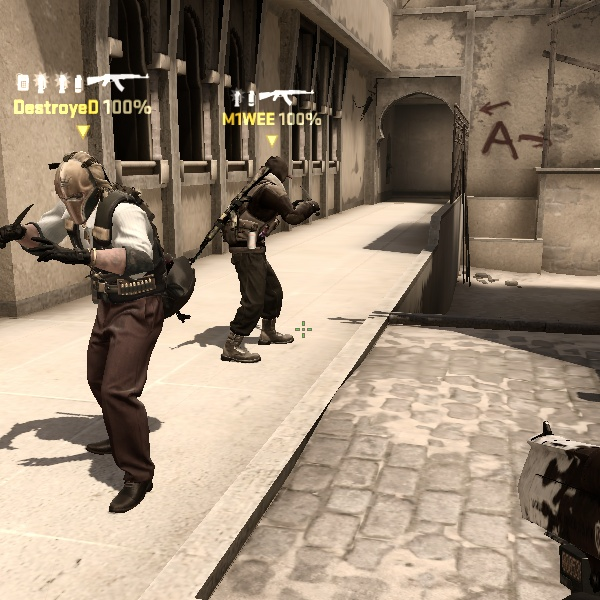t_body: (4, 146, 196, 507), (194, 156, 303, 365)
t_head: (39, 150, 126, 232), (254, 150, 294, 195)
